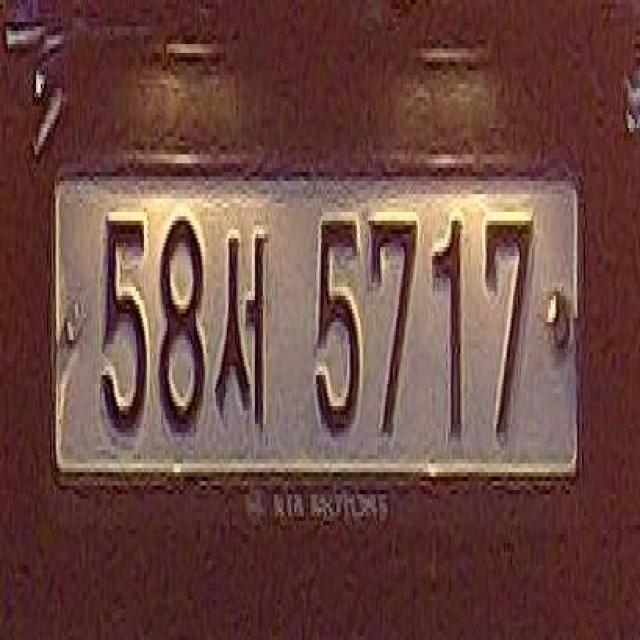1: (424, 199, 472, 446)
5: (93, 196, 151, 446), (308, 202, 364, 446)
7: (480, 206, 538, 454), (366, 199, 422, 442)
8: (153, 202, 210, 440)
license_plate: (49, 142, 592, 514)
seo: (212, 203, 273, 440)
